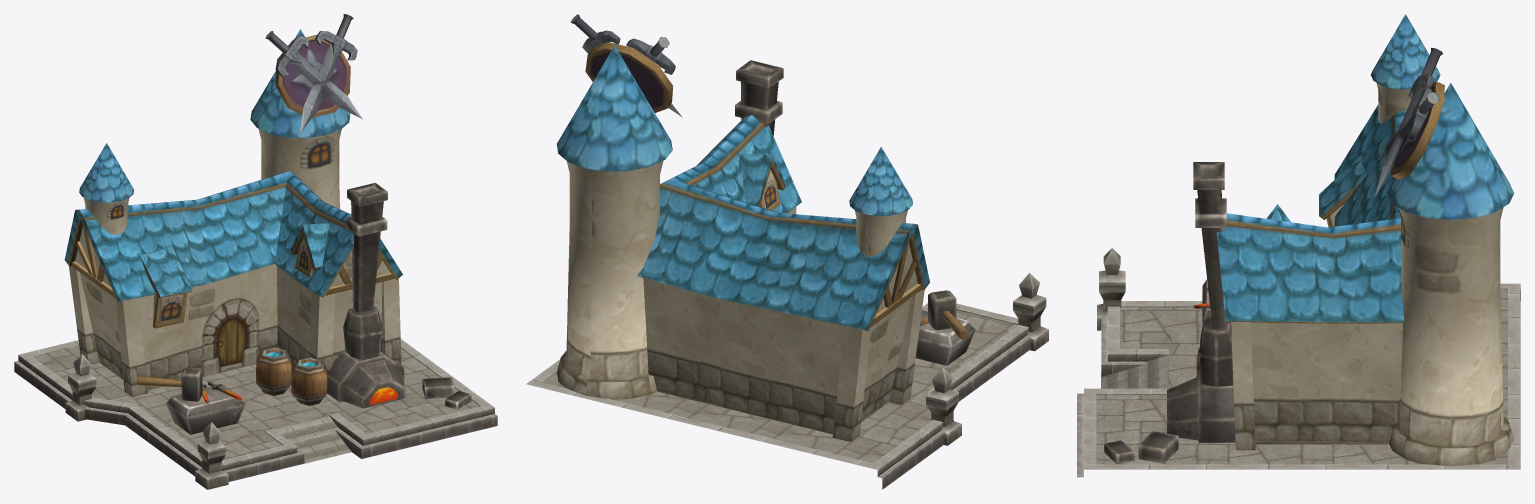
Rendered from tejiangpu.FBX.
3 views of the same model, side by side, from view 1: azimuth 30°, elevation 25°; view 2: azimuth 150°, elevation 25°; view 3: azimuth 270°, elevation 25° (orthographic). The views are drawn at different scales.
Visible parts, largest first — view 1: Group57, Box03; view 2: Group57, Box03; view 3: Group57, Box03.
Boxes of the visible parts, x1=… form: Group57: x1=33, y1=14, x2=480, y2=489; Box03: x1=14, y1=339, x2=497, y2=481; Group57: x1=543, y1=14, x2=1048, y2=463; Box03: x1=526, y1=303, x2=1031, y2=489; Group57: x1=1096, y1=14, x2=1514, y2=466; Box03: x1=1077, y1=283, x2=1520, y2=477.
Bounding box in the file's own units: 691 × 665 × 681.
